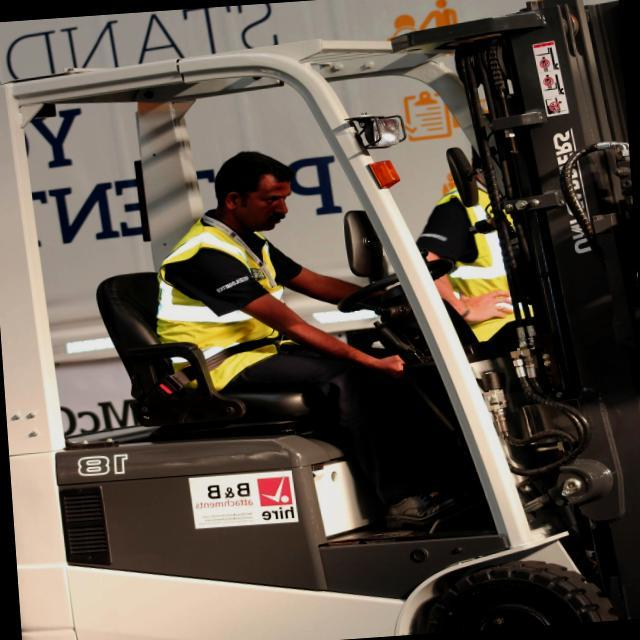driver: (121, 134, 450, 546)
forklift: (0, 10, 640, 640)
